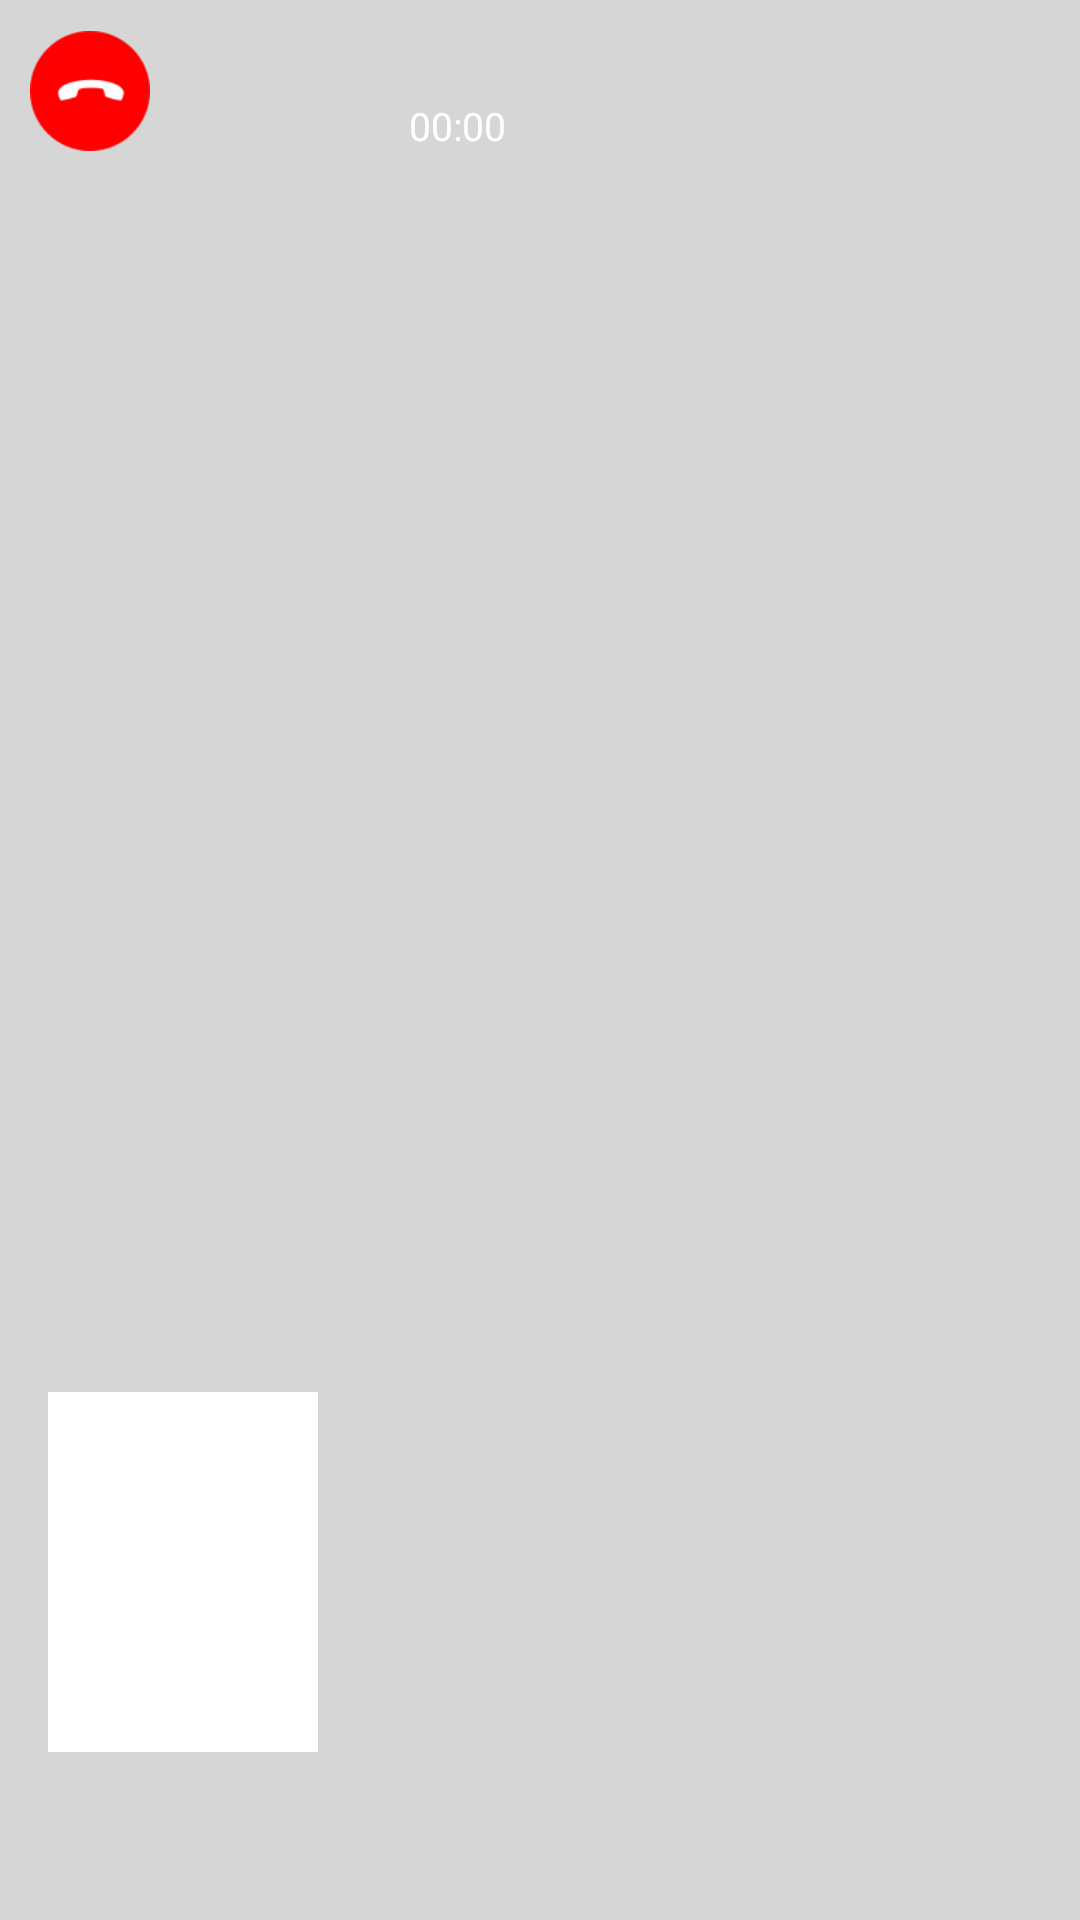

Named icons in this screenshot (1080×1920) and their centers, [x,y]:
end call: [90,91]
